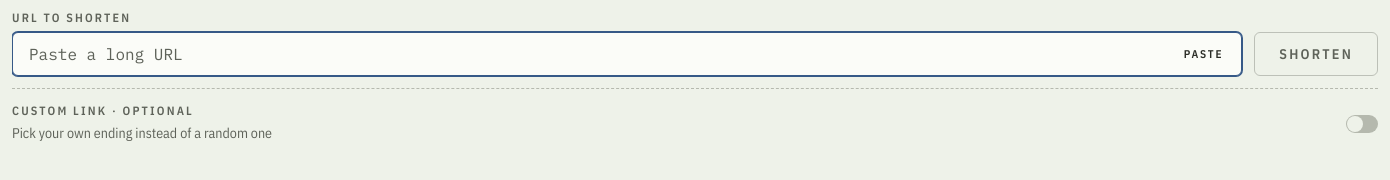
Scenario: UrlForm › shows a field error for a URL without a scheme and does not submit
This screenshot has width=1390, height=180.
Type "example.com" into the field labelled "URL to shorten" at (627, 54), box [12,32,1242,76]
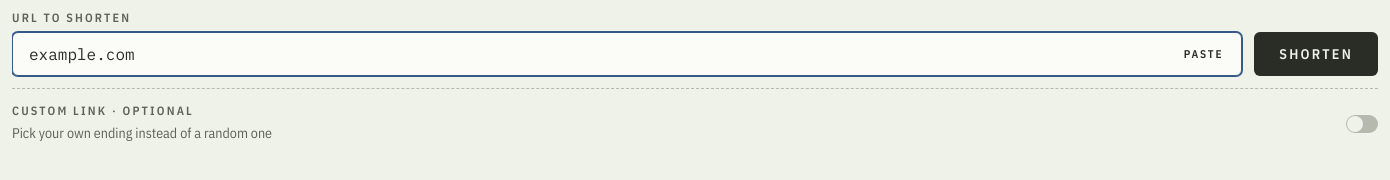
Click the button "Shorten" at (1316, 54), box [1254,32,1378,76]
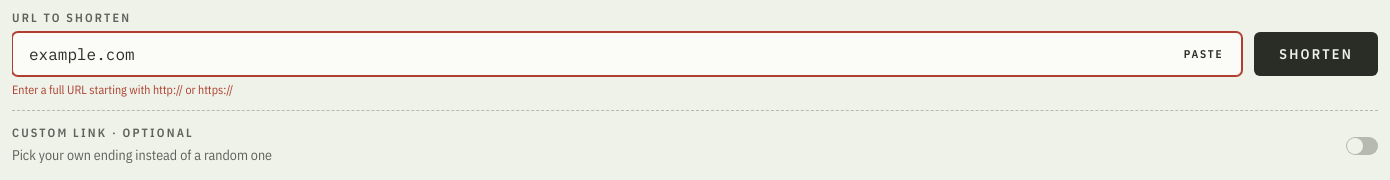
Result: the text "Enter a full URL starting with http:// or https://" is shown at [12,82,233,97]
